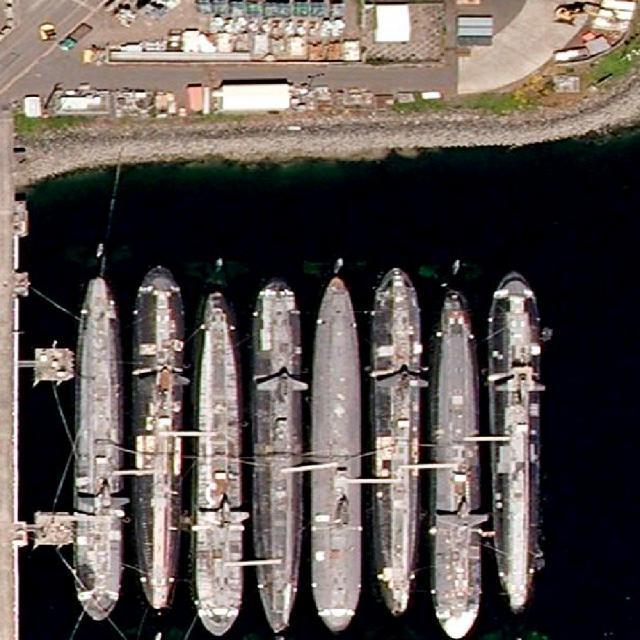Submarine: (310, 272, 361, 633), (373, 266, 423, 619), (489, 270, 540, 613), (133, 263, 183, 610), (192, 292, 242, 639), (433, 286, 482, 639), (74, 276, 123, 623), (253, 284, 301, 632)
